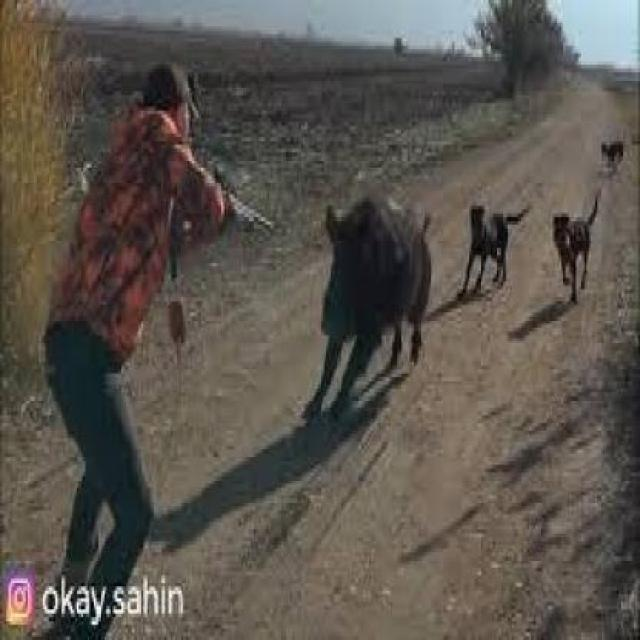wildboar: (285, 183, 438, 428)
